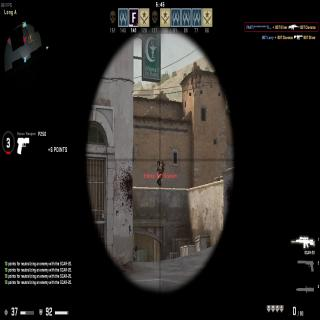T-Body: (156, 160, 162, 188)
T-Head: (157, 160, 160, 166)
